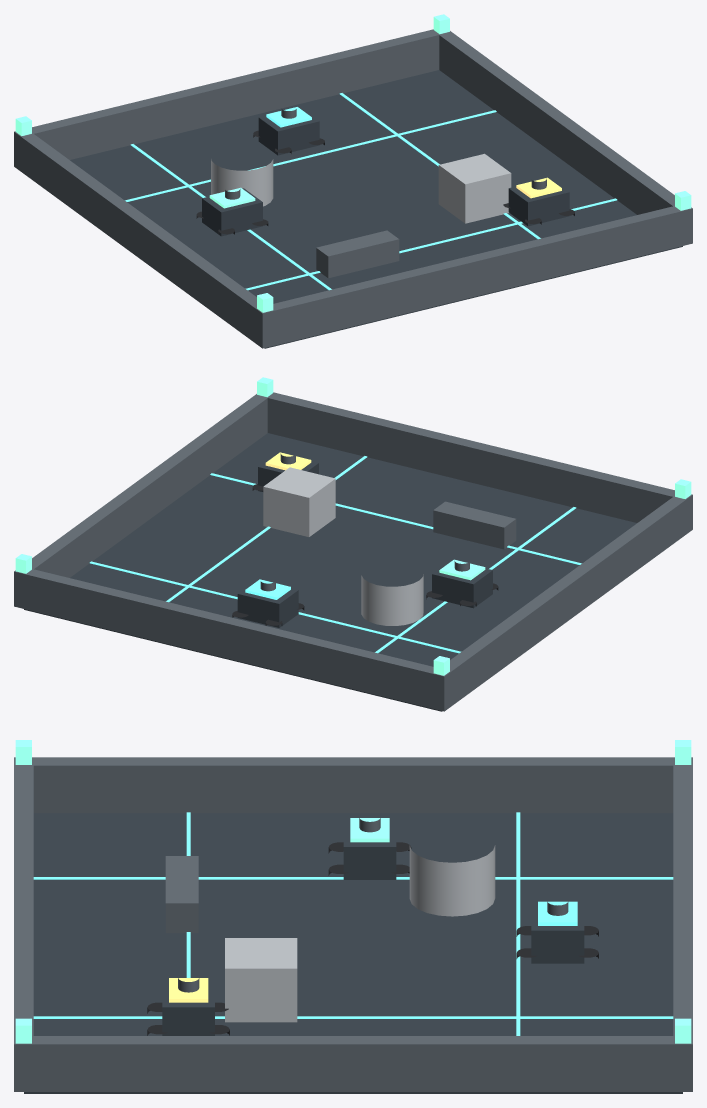
The model's file is multi-agent-arena.glb.
The picture shows the model from 3 angles, top to bottom: view 1: azimuth 30°, elevation 25°; view 2: azimuth 150°, elevation 25°; view 3: azimuth 270°, elevation 25°; orthographic projection. The views are drawn at different scales.
Visible parts, largest first — view 1: Floor, Wall_N, Wall_S, Wall_W, Wall_E, Obstacle_1, Obstacle_3, Obstacle_2, Agent_C_Body, Agent_B_Body, Agent_A_Body, GridLineB (+3 smaller); view 2: Floor, Wall_S, Wall_N, Wall_W, Wall_E, Obstacle_1, Obstacle_3, Obstacle_2, Agent_C_Body, Agent_A_Body, GridLineB, GridLineA (+3 smaller); view 3: Floor, Wall_E, Wall_W, Obstacle_1, Wall_S, Wall_N, Obstacle_2, Obstacle_3, Agent_A_Body, Agent_C_Body, Agent_B_Body, GridLineC (+5 smaller).
Part boxes in pixels (box(x1,y1,x2,y2)): Floor: box(70, 70, 682, 348); Wall_N: box(255, 206, 692, 348); Wall_S: box(14, 29, 451, 171); Wall_W: box(14, 132, 274, 347); Wall_E: box(432, 29, 692, 245); Obstacle_1: box(438, 153, 511, 223); Obstacle_3: box(316, 230, 399, 278); Obstacle_2: box(211, 159, 273, 206); Agent_C_Body: box(258, 107, 319, 155); Agent_B_Body: box(508, 178, 569, 226); Agent_A_Body: box(202, 188, 262, 236); GridLineB: box(125, 110, 496, 201); Floor: box(24, 433, 636, 711); Wall_S: box(14, 569, 451, 711); Wall_N: box(255, 392, 692, 534); Wall_W: box(432, 494, 692, 711); Wall_E: box(14, 392, 274, 607); Obstacle_1: box(263, 467, 335, 536); Obstacle_3: box(433, 501, 516, 549); Obstacle_2: box(361, 574, 423, 625); Agent_C_Body: box(237, 580, 298, 627); Agent_A_Body: box(432, 560, 492, 608); GridLineB: box(89, 561, 461, 653); GridLineA: box(210, 473, 581, 564); Floor: box(24, 813, 682, 1093); Wall_E: box(14, 1036, 692, 1091); Wall_W: box(14, 757, 692, 813); Obstacle_1: box(225, 938, 297, 1022); Wall_S: box(673, 757, 692, 1091); Wall_N: box(14, 757, 33, 1091); Obstacle_2: box(409, 845, 495, 916); Obstacle_3: box(165, 856, 198, 933); Agent_A_Body: box(343, 819, 396, 879); Agent_C_Body: box(531, 902, 584, 963); Agent_B_Body: box(162, 979, 214, 1035); GridLineC: box(33, 1016, 673, 1018).
Size of the model in its own units: 2.06 by 0.24 by 2.06.
